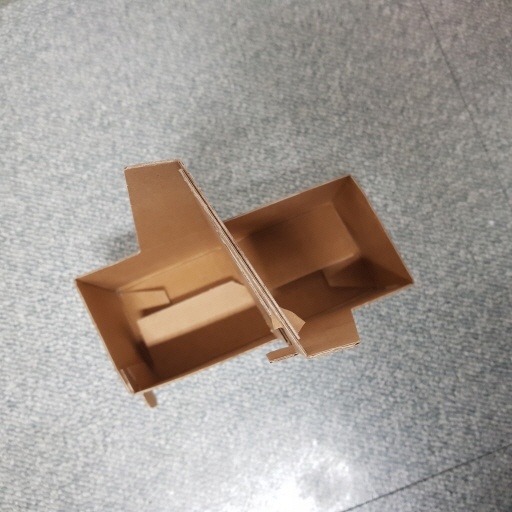Paper_0: (67, 154, 419, 405)
